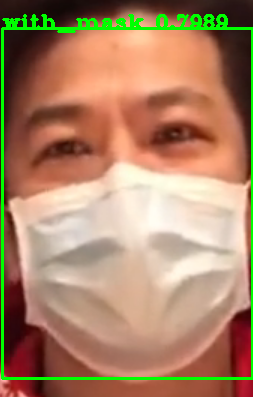with_mask: (3, 15, 253, 367)
